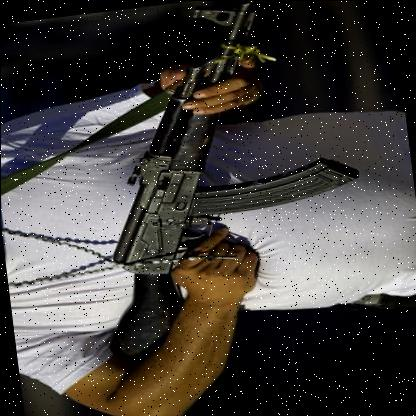rifle: (60, 0, 381, 370)
